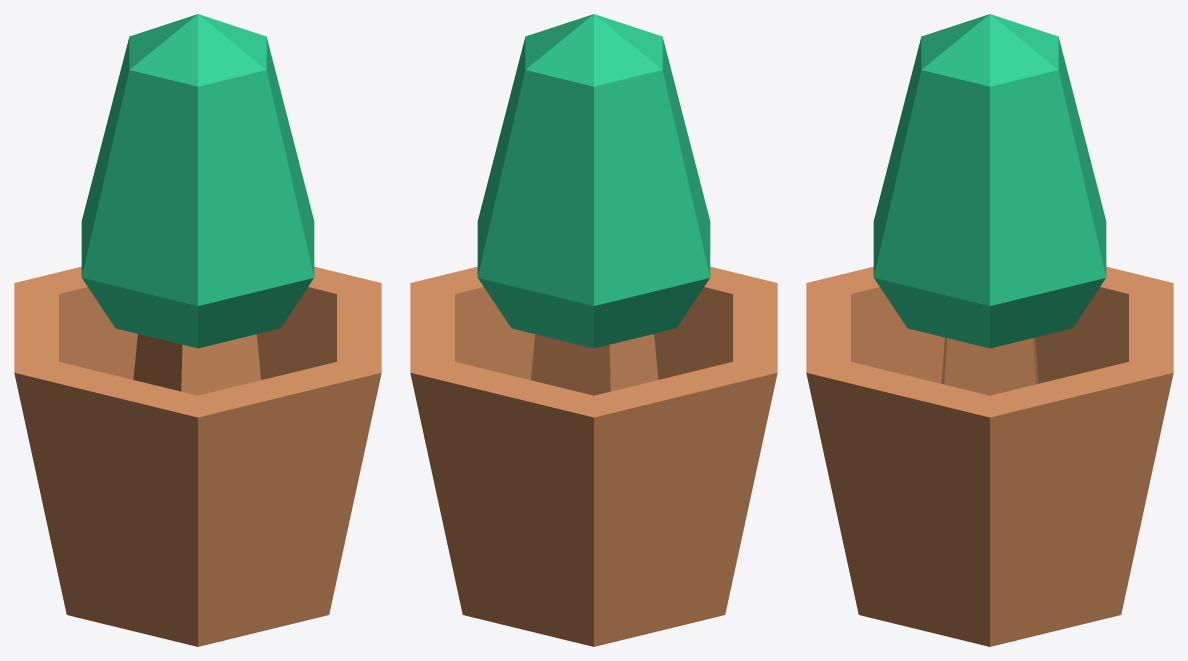
The model's file is plantSmall3.glb.
3 views of the same model, side by side, from view 1: azimuth 30°, elevation 25°; view 2: azimuth 150°, elevation 25°; view 3: azimuth 270°, elevation 25° (orthographic).
Parts seen in each view (by area): view 1: plantSmall3; view 2: plantSmall3; view 3: plantSmall3.
Boxes of the visible parts, <box> form: plantSmall3: <box>14,14,381,646</box>; plantSmall3: <box>410,14,777,646</box>; plantSmall3: <box>806,14,1173,646</box>.
Size of the model in its own units: 0.196 by 0.29 by 0.1697.
